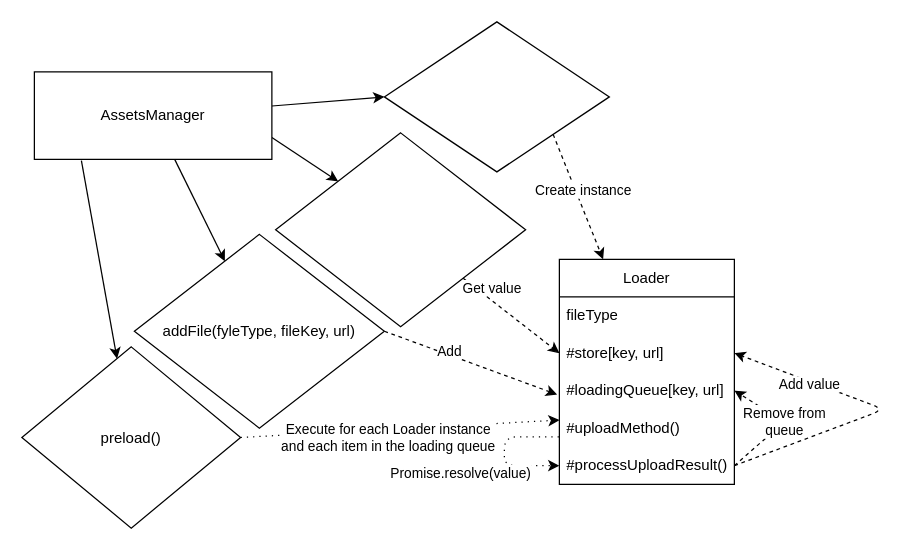
Image size: 916x550. Some labels were removed from this diagram. The shapes that lost their labels are listed below. From the top down, each one's centre as x and y in pixels, then its label:
At (496,96): "registerLoader(loaderType, uploadMethod)".
At (400,229): "getFile(filetype, fileKey)".
